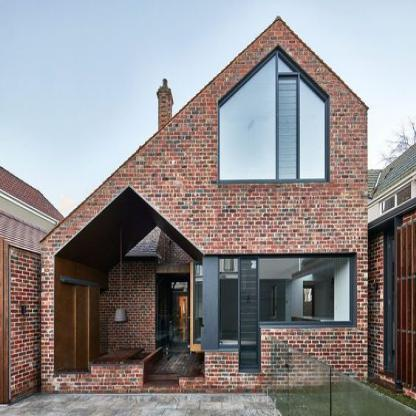Balcony: (55, 186, 205, 387)
Building Outline: (38, 14, 369, 393)
Door: (159, 280, 190, 351)
Facade: (38, 14, 370, 392)
Floor Slab: (144, 187, 367, 199)
Window: (219, 257, 349, 371), (219, 53, 324, 179), (194, 262, 203, 342)
